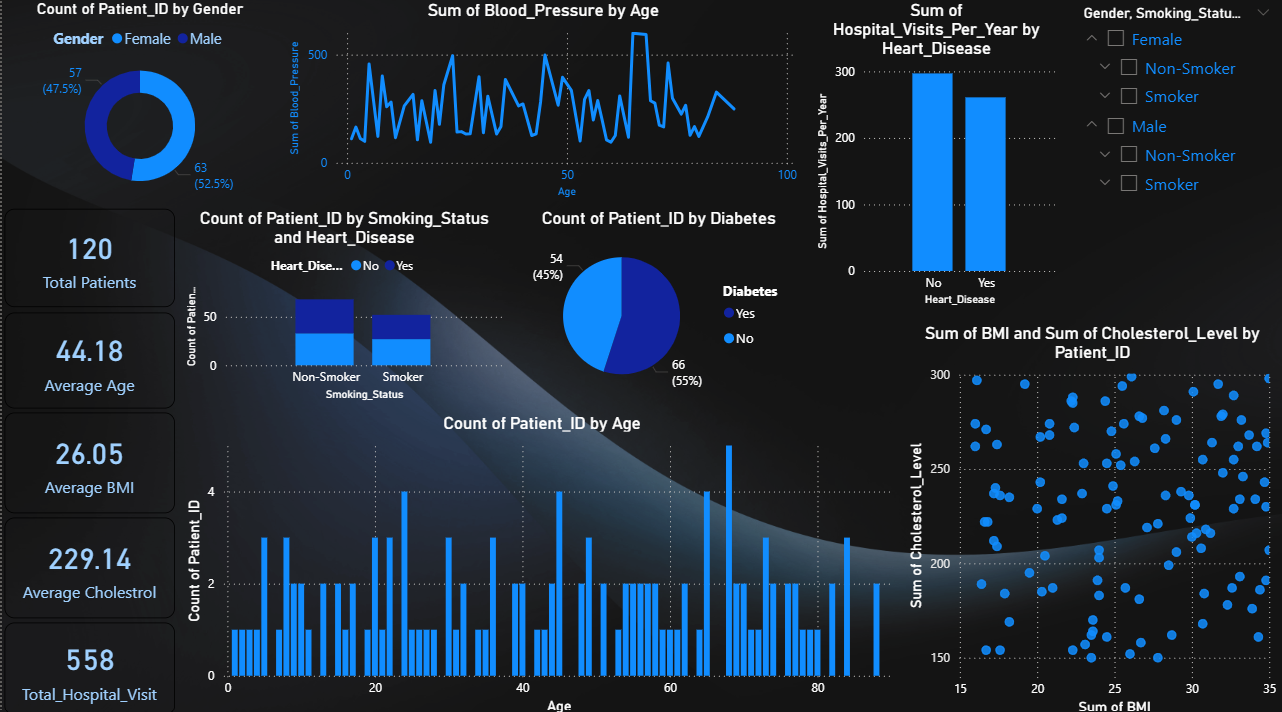

Layout of this report page (visuals, bound fields, positions):
{"tool":"powerbi","page":{"name":"Page 2","canvas":[1280,720],"ordinal":0},"visuals":[{"type":"card","fields":{"Values":["healthcare_analytic.Total Patients"]},"box":[2.7,209,170.4,98.3],"z":0},{"type":"card","fields":{"Values":["healthcare_analytic.Average Age"]},"box":[2.7,312.2,170.4,95.8],"z":1},{"type":"card","fields":{"Values":["healthcare_analytic.Average BMI"]},"box":[2.7,413,170.4,100.8],"z":2},{"type":"card","fields":{"Values":["healthcare_analytic.Average Cholestrol"]},"box":[2.7,517.5,170.4,100.8],"z":3},{"type":"card","fields":{"Values":["healthcare_analytic.Total_Hospital_Visit"]},"box":[2.7,622,170.4,93.3],"z":4},{"type":"donutChart","fields":{"Category":["healthcare_analytic.Gender"],"Y":["CountNonNull(healthcare_analytic.Patient_ID)"]},"box":[0,0,276.2,202.8],"z":5},{"type":"clusteredColumnChart","fields":{"Category":["healthcare_analytic.Age"],"Y":["CountNonNull(healthcare_analytic.Patient_ID)"]},"box":[179.1,413,722.7,307.3],"z":6},{"type":"columnChart","fields":{"Category":["healthcare_analytic.Smoking_Status"],"Y":["CountNonNull(healthcare_analytic.Patient_ID)"],"Series":["healthcare_analytic.Heart_Disease"]},"box":[179.1,207.7,327.2,197.8],"z":7},{"type":"pieChart","fields":{"Category":["healthcare_analytic.Diabetes"],"Y":["CountNonNull(healthcare_analytic.Patient_ID)"]},"box":[513.8,207.7,286.1,197.8],"z":8},{"type":"lineChart","fields":{"Category":["healthcare_analytic.Age"],"Y":["Sum(healthcare_analytic.Blood_Pressure)"]},"box":[282.4,0,517.5,202.8],"z":9},{"type":"clusteredColumnChart","fields":{"Category":["healthcare_analytic.Heart_Disease"],"Y":["Sum(healthcare_analytic.Hospital_Visits_Per_Year)"]},"box":[809.8,0,248.8,311],"z":10},{"type":"slicer","fields":{"Values":["healthcare_analytic.Gender","healthcare_analytic.Smoking_Status","healthcare_analytic.Diabetes","healthcare_analytic.Heart_Disease","healthcare_analytic.Age"]},"box":[1068.6,0,211.5,283.6],"z":11},{"type":"scatterChart","fields":{"X":["Sum(healthcare_analytic.BMI)"],"Y":["Sum(healthcare_analytic.Cholesterol_Level)"],"Category":["healthcare_analytic.Patient_ID"]},"box":[901.9,322.2,378.2,398.1],"z":12}]}

Visuals, with their boxes in screenshot pixels (x1, y1, x2, y2), scaled from the page's 1280x720 canvas onto the 1282x712 screenshot:
card - healthcare_analytic.Total Patients: left=3, top=207, right=173, bottom=304
card - healthcare_analytic.Average Age: left=3, top=309, right=173, bottom=403
card - healthcare_analytic.Average BMI: left=3, top=408, right=173, bottom=508
card - healthcare_analytic.Average Cholestrol: left=3, top=512, right=173, bottom=611
card - healthcare_analytic.Total_Hospital_Visit: left=3, top=615, right=173, bottom=707
donutChart - healthcare_analytic.Gender x CountNonNull(healthcare_analytic.Patient_ID): left=0, top=0, right=277, bottom=201
clusteredColumnChart - healthcare_analytic.Age x CountNonNull(healthcare_analytic.Patient_ID): left=179, top=408, right=903, bottom=711
columnChart - healthcare_analytic.Smoking_Status x CountNonNull(healthcare_analytic.Patient_ID): left=179, top=205, right=507, bottom=401
pieChart - healthcare_analytic.Diabetes x CountNonNull(healthcare_analytic.Patient_ID): left=515, top=205, right=801, bottom=401
lineChart - healthcare_analytic.Age x Sum(healthcare_analytic.Blood_Pressure): left=283, top=0, right=801, bottom=201
clusteredColumnChart - healthcare_analytic.Heart_Disease x Sum(healthcare_analytic.Hospital_Visits_Per_Year): left=811, top=0, right=1060, bottom=308
slicer - healthcare_analytic.Gender x healthcare_analytic.Smoking_Status: left=1070, top=0, right=1281, bottom=280
scatterChart - Sum(healthcare_analytic.BMI) x Sum(healthcare_analytic.Cholesterol_Level): left=903, top=319, right=1281, bottom=711
